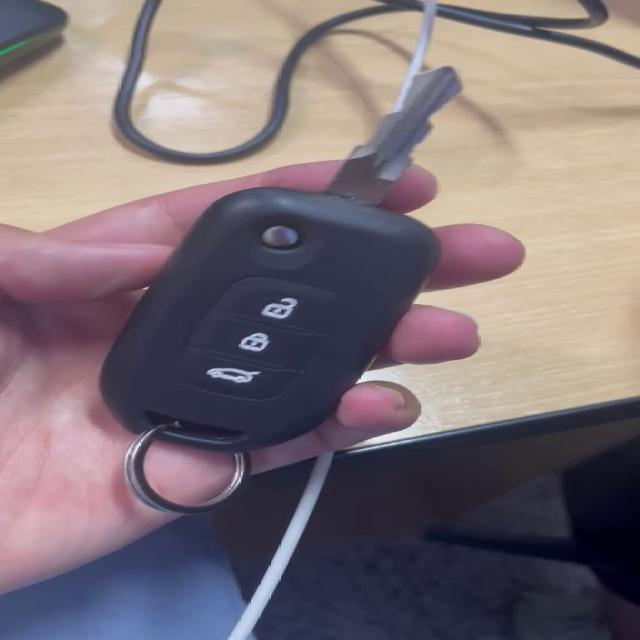llave-auto: (66, 52, 552, 572)
